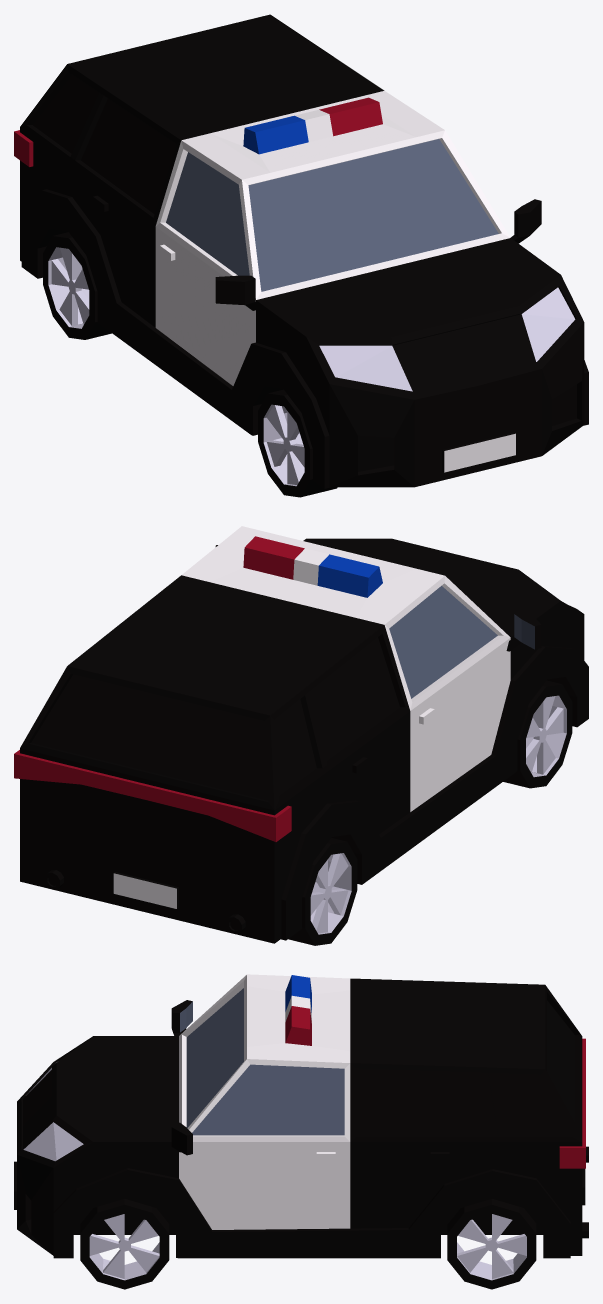
File: Police_SUV.gltf
3 renders of one model, top to bottom at view 1: azimuth 30°, elevation 25°; view 2: azimuth 150°, elevation 25°; view 3: azimuth 270°, elevation 25°, orthographic. The views are drawn at different scales.
Visible parts, largest first — view 1: Police_SUV, Police_SUV_wheel_front_right, Police_SUV_wheel_rear_right; view 2: Police_SUV, Police_SUV_wheel_rear_right, Police_SUV_wheel_front_right; view 3: Police_SUV, Police_SUV_wheel_front_left, Police_SUV_wheel_rear_left.
Boxes of the visible parts, <box> form: Police_SUV: <box>14,14,588,488</box>; Police_SUV_wheel_front_right: <box>258,389,337,497</box>; Police_SUV_wheel_rear_right: <box>43,232,111,339</box>; Police_SUV: <box>14,526,588,943</box>; Police_SUV_wheel_rear_right: <box>288,838,357,945</box>; Police_SUV_wheel_front_right: <box>503,680,572,788</box>; Police_SUV: <box>14,974,588,1258</box>; Police_SUV_wheel_front_left: <box>80,1199,169,1289</box>; Police_SUV_wheel_rear_left: <box>447,1199,536,1289</box>.
Size of the model in its own units: 281 by 226 by 504.
